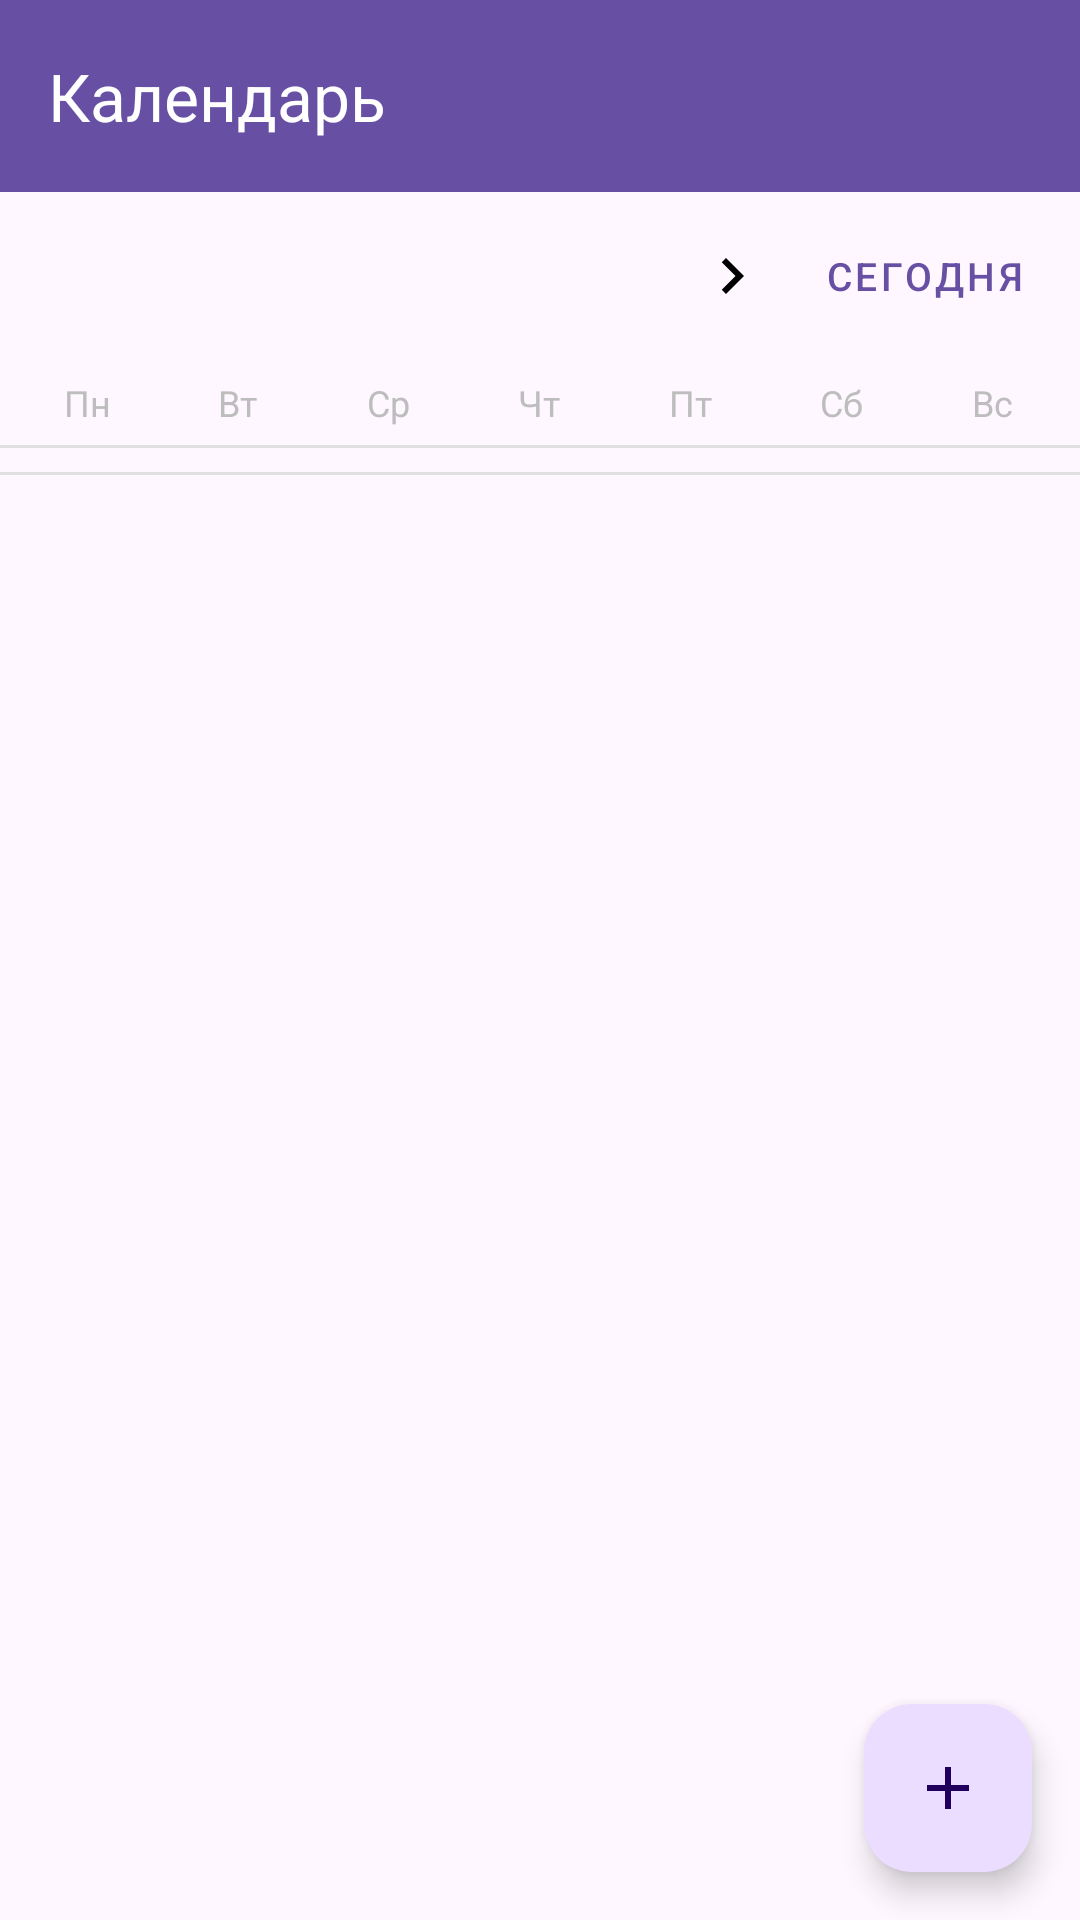

Point at icon controls on the screen. Image size 1080x1920, points as [x,y].
Добавить задачу: [948,1788]
Следующий месяц: [733,276]
